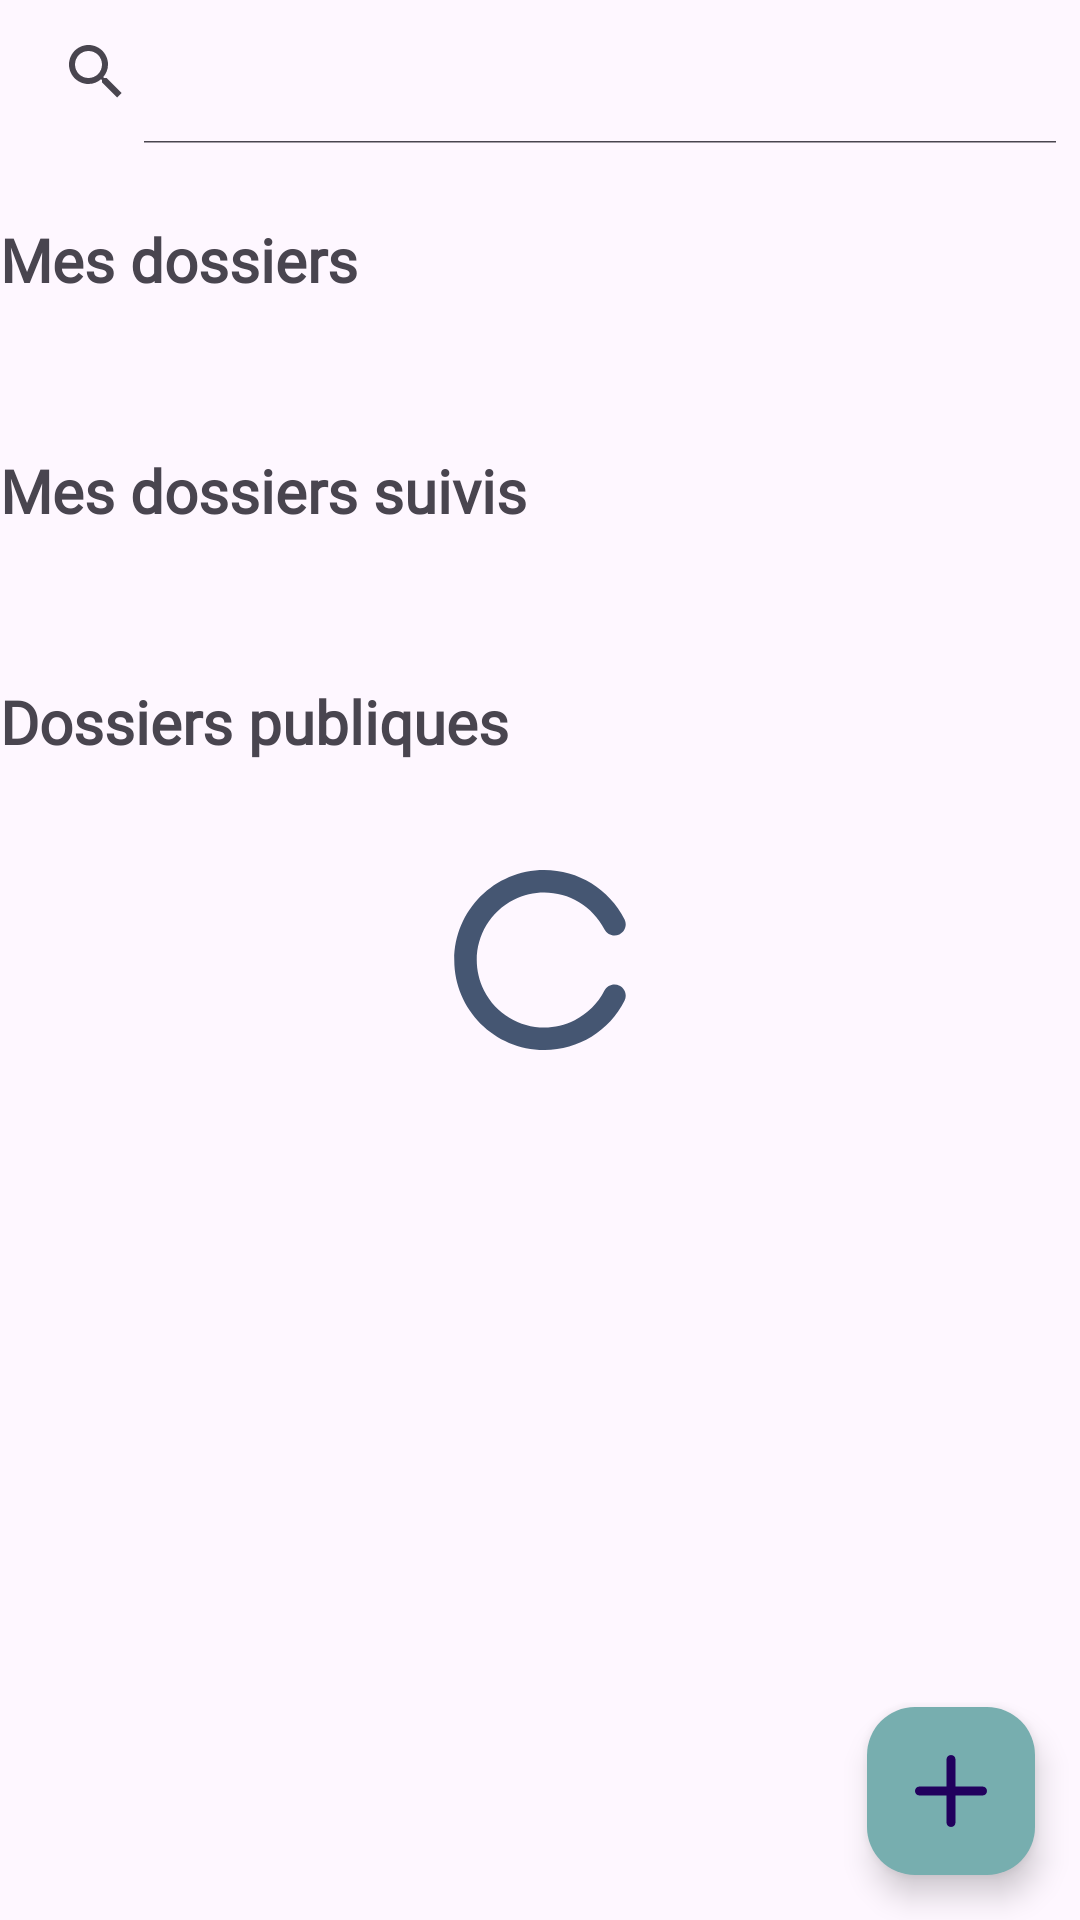

Named icons in this screenshot (1080px×1920px) and their centers, point (x, y):
plus: point (951, 1791)
